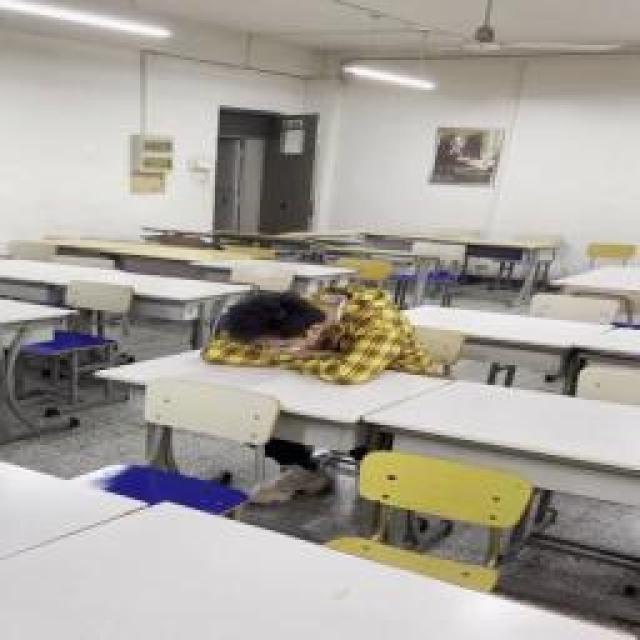sleep: (208, 278, 432, 388)
